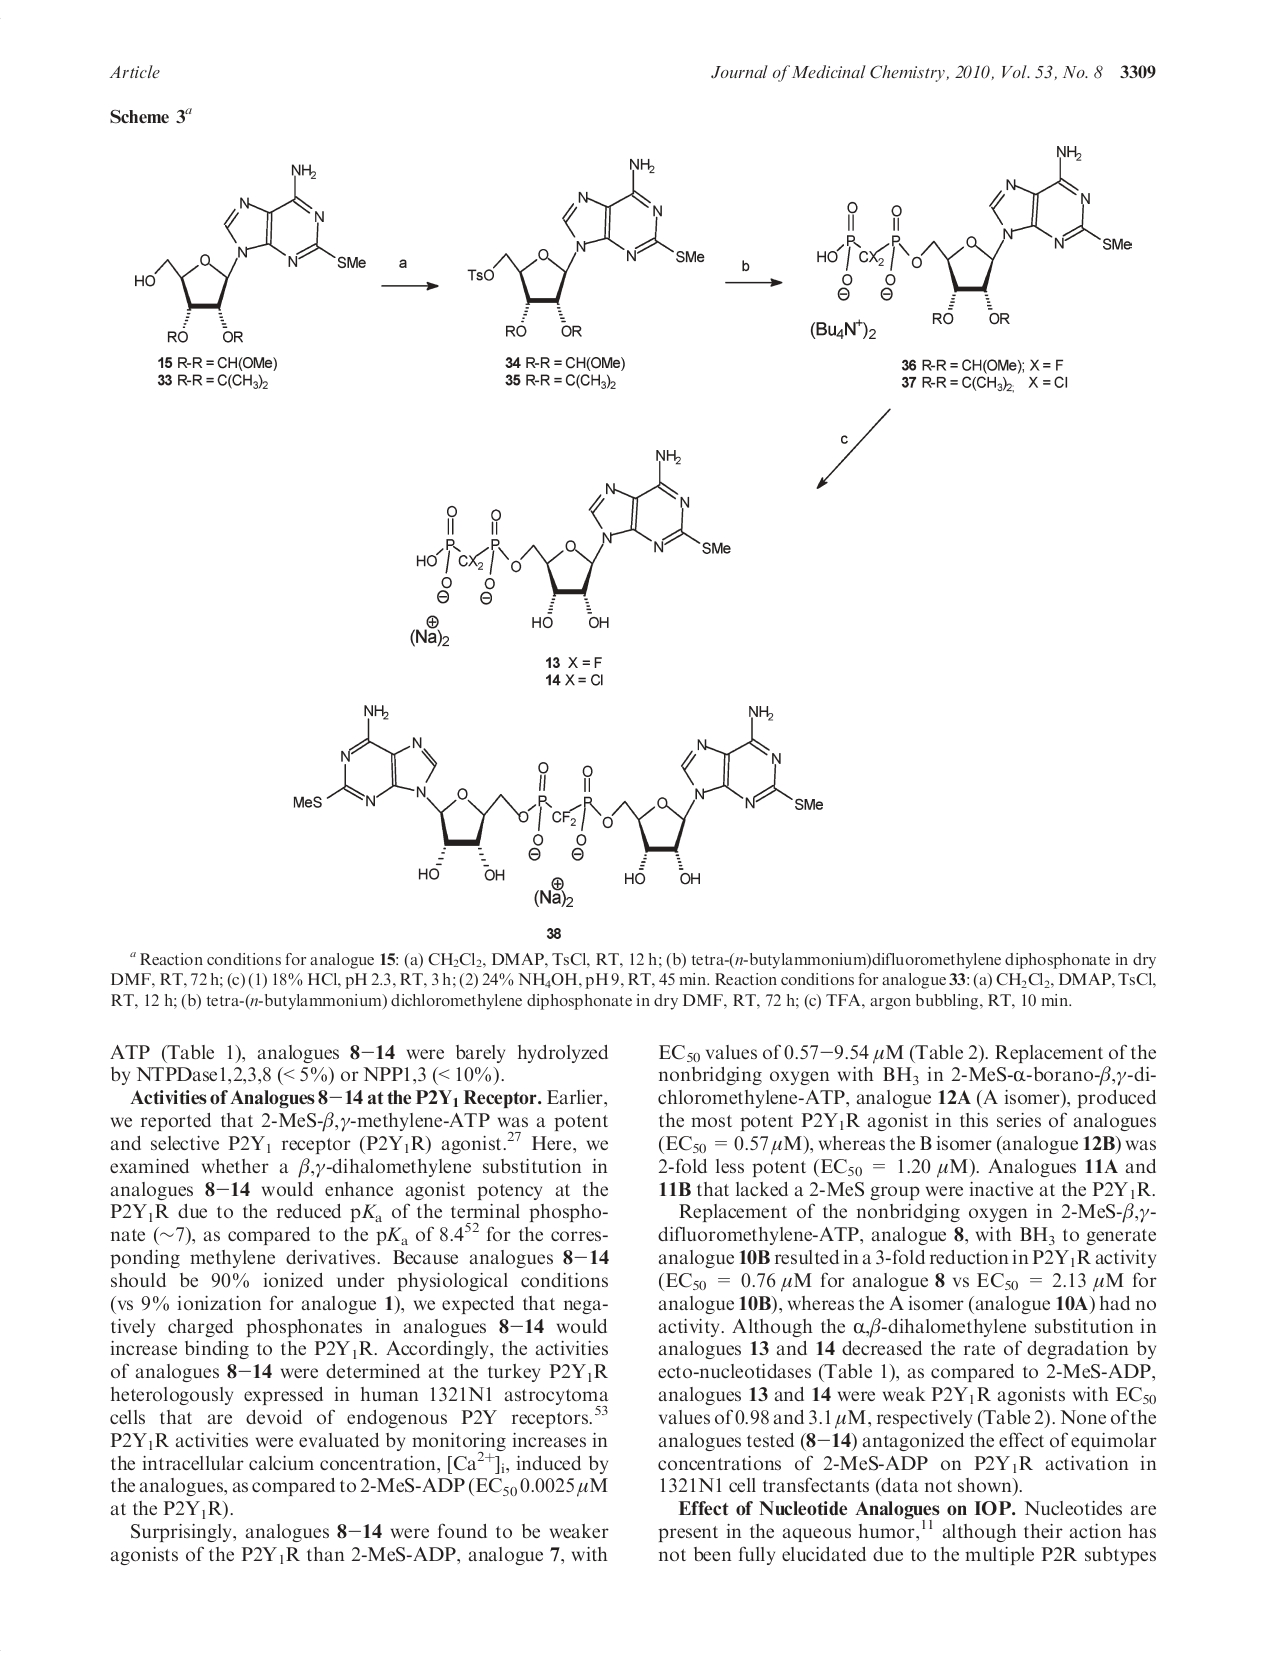exist_molecular: (285, 698, 832, 886), (402, 432, 737, 652), (813, 146, 1142, 327), (465, 141, 707, 340), (133, 158, 371, 351)
